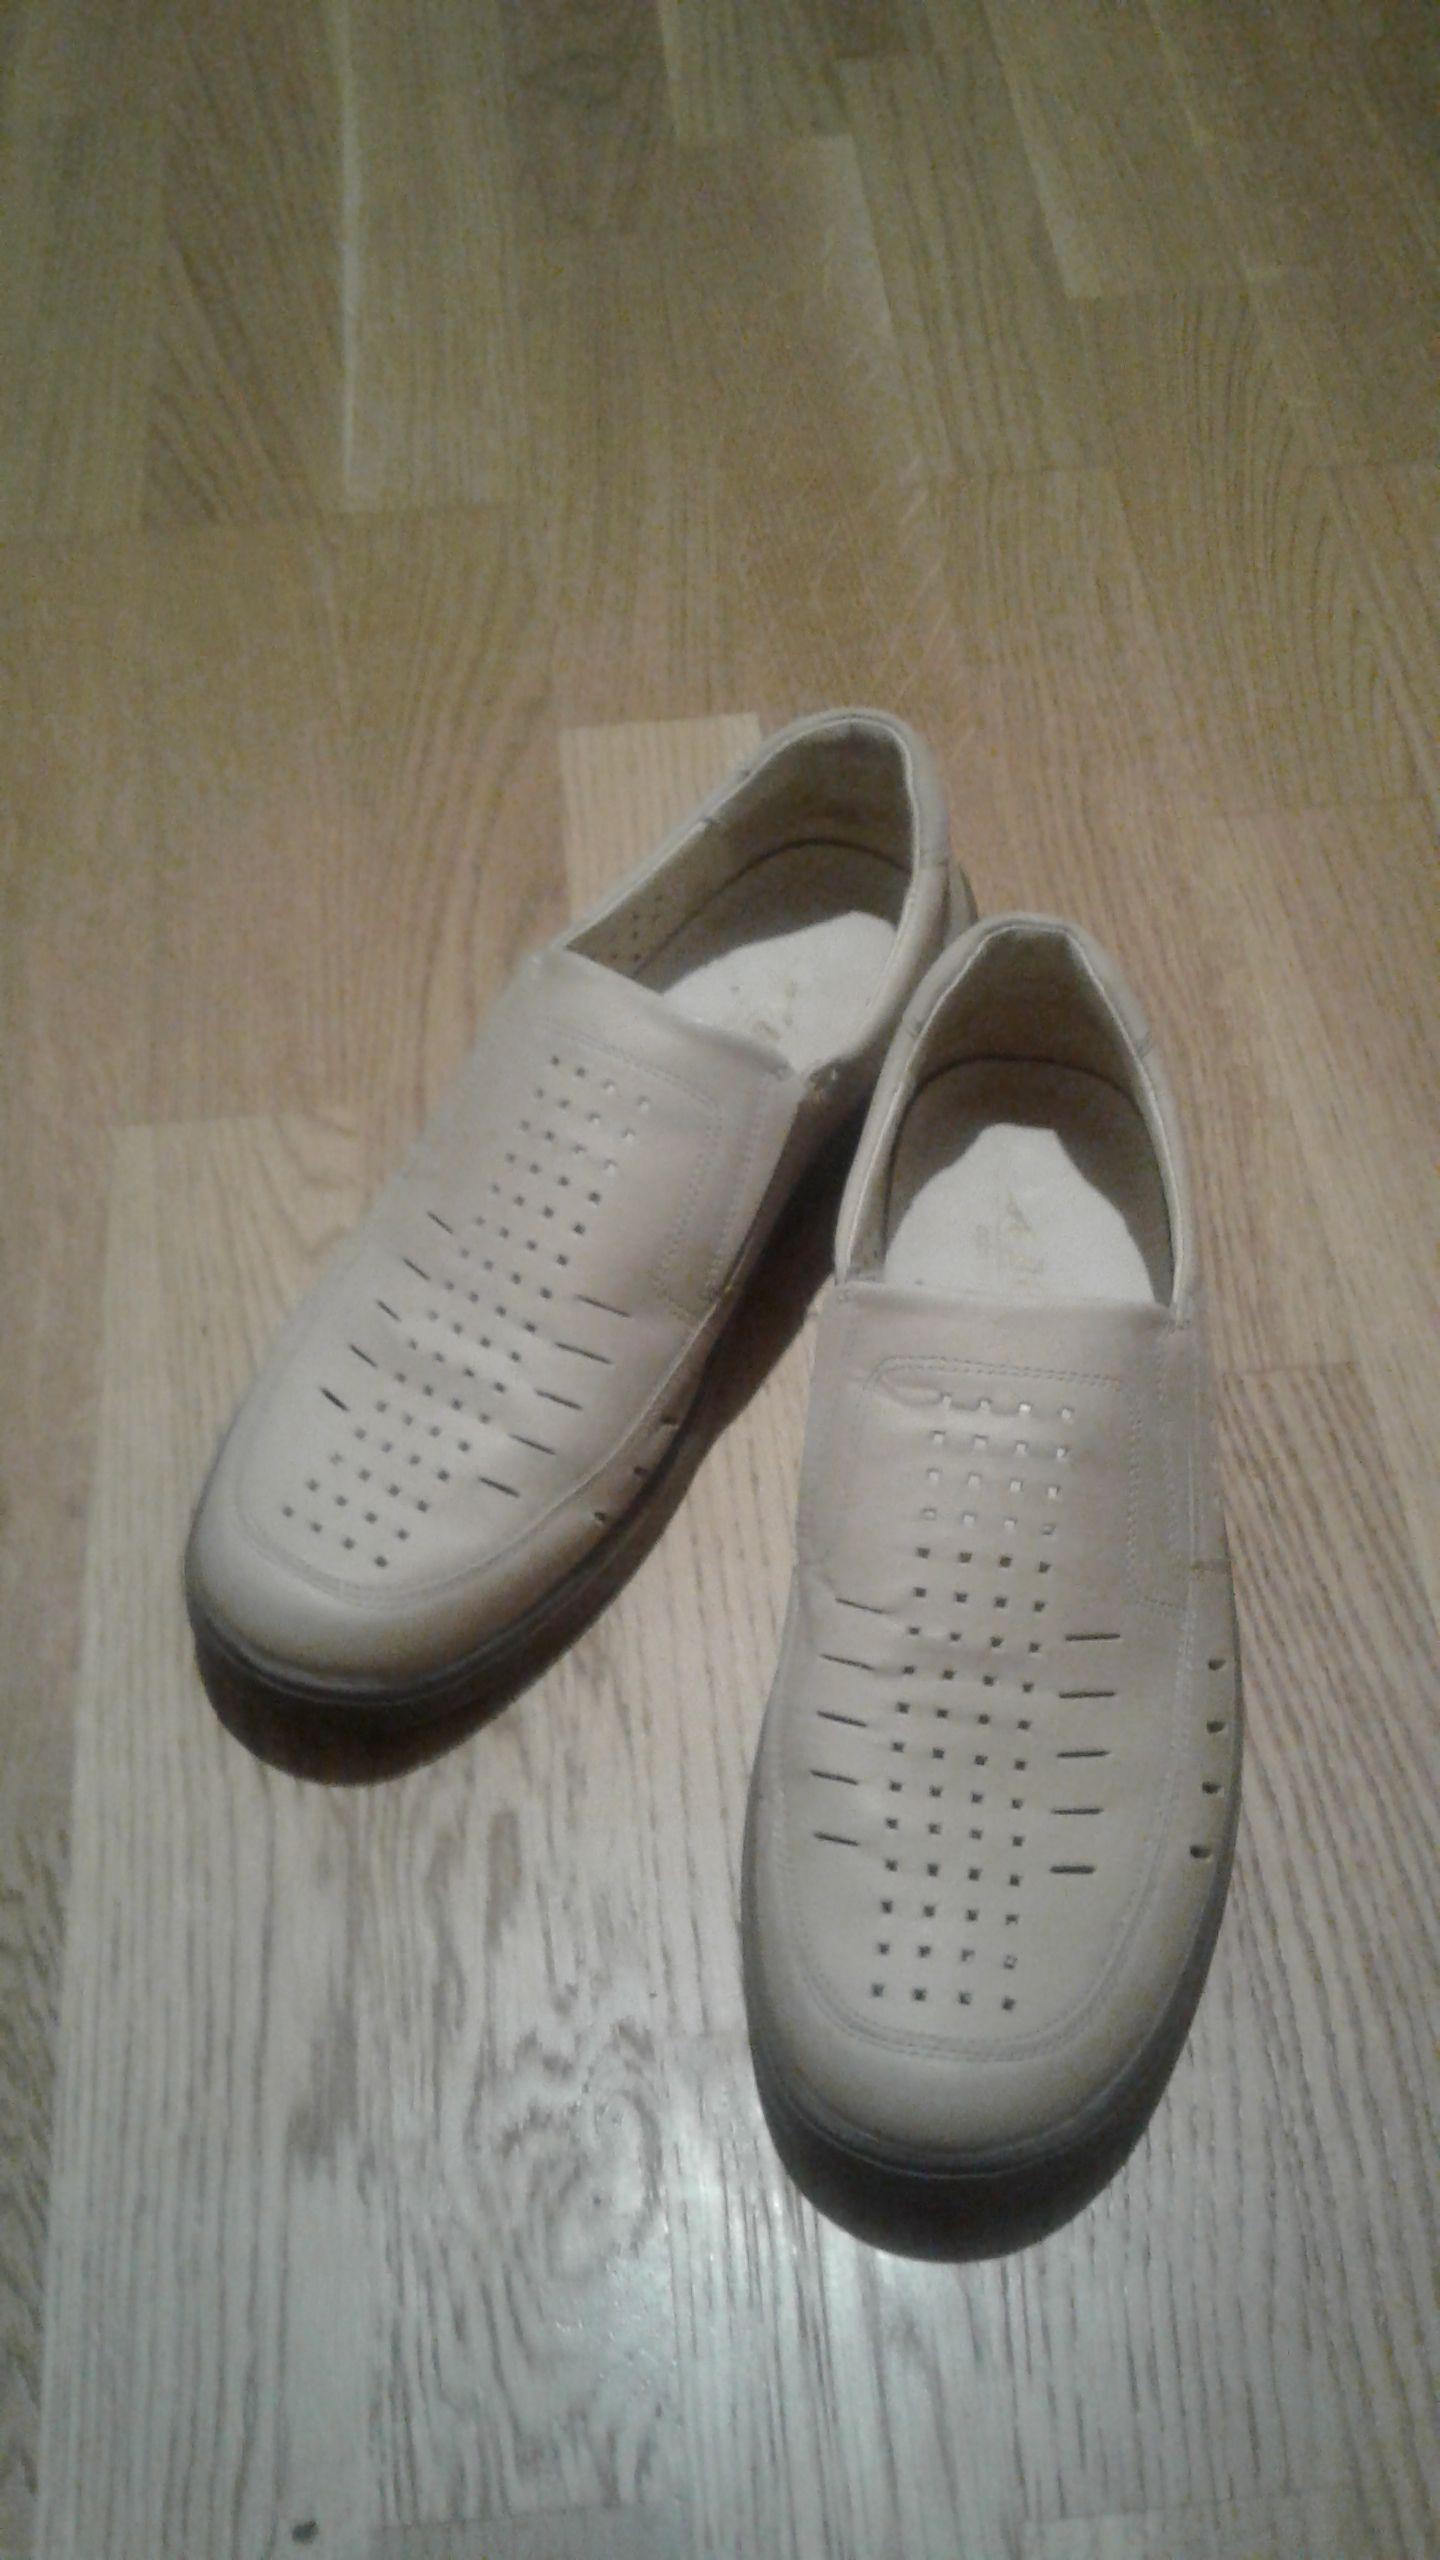clothes: (121, 686, 1248, 2238)
